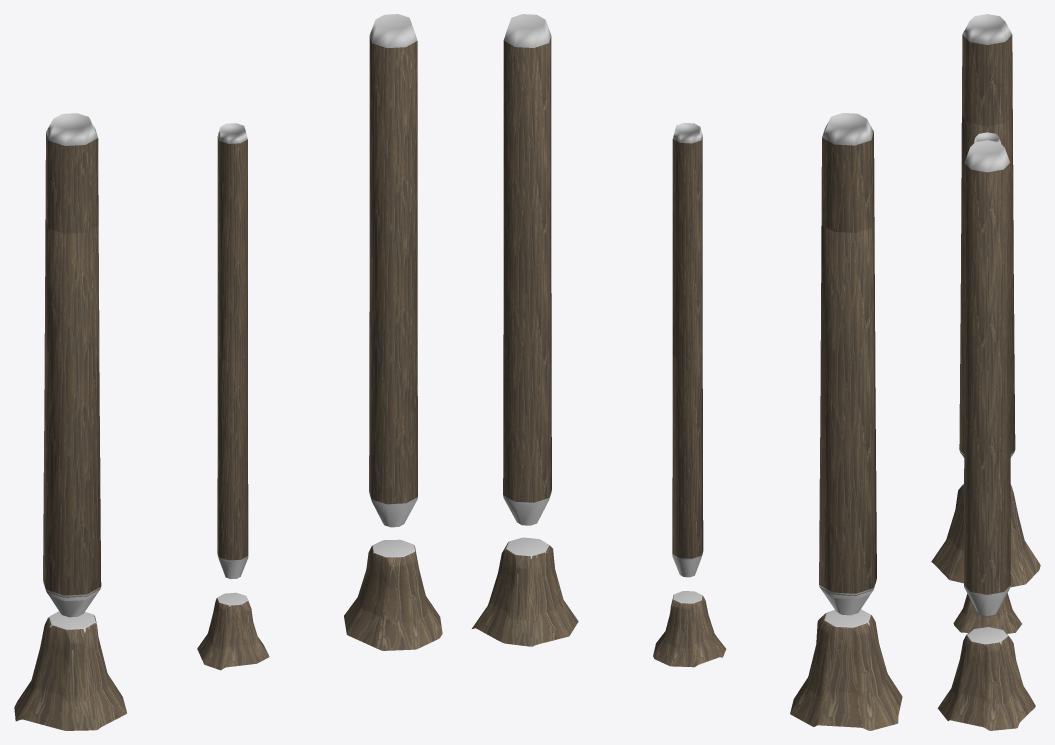
Rendered from Chopped_Trees_1A1.fbx.
3 views of the same model, side by side, from view 1: azimuth 30°, elevation 25°; view 2: azimuth 150°, elevation 25°; view 3: azimuth 270°, elevation 25° (orthographic). The views are drawn at different scales.
Visible parts, largest first — view 1: Tree_Log_2A2, Tree_Log_2C2, Stump_1A1, Stump_1C1, Tree_Log_1A1, Tree_Log_2A1, Tree_Log_1B1, Tree_Log_1C1, Tree_Log_2B2, Tree_Log_2C1, Stump_1B1; view 2: Tree_Log_2A2, Tree_Log_2C2, Stump_1A1, Tree_Log_1A1, Stump_1C1, Tree_Log_2A1, Tree_Log_1B1, Tree_Log_1C1, Tree_Log_2B2, Tree_Log_2C1, Stump_1B1; view 3: Tree_Log_2C2, Stump_1C1, Tree_Log_1C1, Tree_Log_1A1, Tree_Log_2C1, Stump_1A1, Tree_Log_2A2, Tree_Log_2A1, Stump_1B1, Tree_Log_1B1.
Boxes of the visible parts, x1,y1,x2,y2 form: Tree_Log_2A2: (43, 374, 101, 617); Tree_Log_2C2: (369, 271, 417, 527); Stump_1A1: (14, 611, 126, 730); Stump_1C1: (344, 539, 442, 650); Tree_Log_1A1: (43, 113, 100, 617); Tree_Log_2A1: (44, 220, 99, 367); Tree_Log_1B1: (217, 123, 247, 361); Tree_Log_1C1: (369, 14, 417, 282); Tree_Log_2B2: (217, 354, 248, 578); Tree_Log_2C1: (369, 137, 417, 273); Stump_1B1: (197, 592, 269, 670); Tree_Log_2A2: (819, 373, 876, 615); Tree_Log_2C2: (503, 270, 551, 525); Stump_1A1: (790, 609, 902, 730); Tree_Log_1A1: (819, 113, 876, 615); Stump_1C1: (472, 537, 578, 646); Tree_Log_2A1: (820, 219, 875, 366); Tree_Log_1B1: (672, 123, 702, 360); Tree_Log_1C1: (503, 14, 551, 281); Tree_Log_2B2: (672, 353, 703, 577); Tree_Log_2C1: (503, 139, 551, 272); Stump_1B1: (653, 591, 726, 667); Tree_Log_2C2: (964, 380, 1010, 615); Stump_1C1: (937, 627, 1035, 730); Tree_Log_1C1: (964, 140, 1010, 389); Tree_Log_1A1: (960, 14, 1014, 457); Tree_Log_2C1: (964, 263, 1010, 380); Stump_1A1: (931, 484, 1040, 587); Tree_Log_2A2: (959, 258, 1015, 457); Tree_Log_2A1: (961, 116, 1013, 241); Stump_1B1: (953, 593, 1021, 633); Tree_Log_1B1: (973, 132, 1000, 143).
Bounding box in the file's own units: 523 × 726 × 127.
